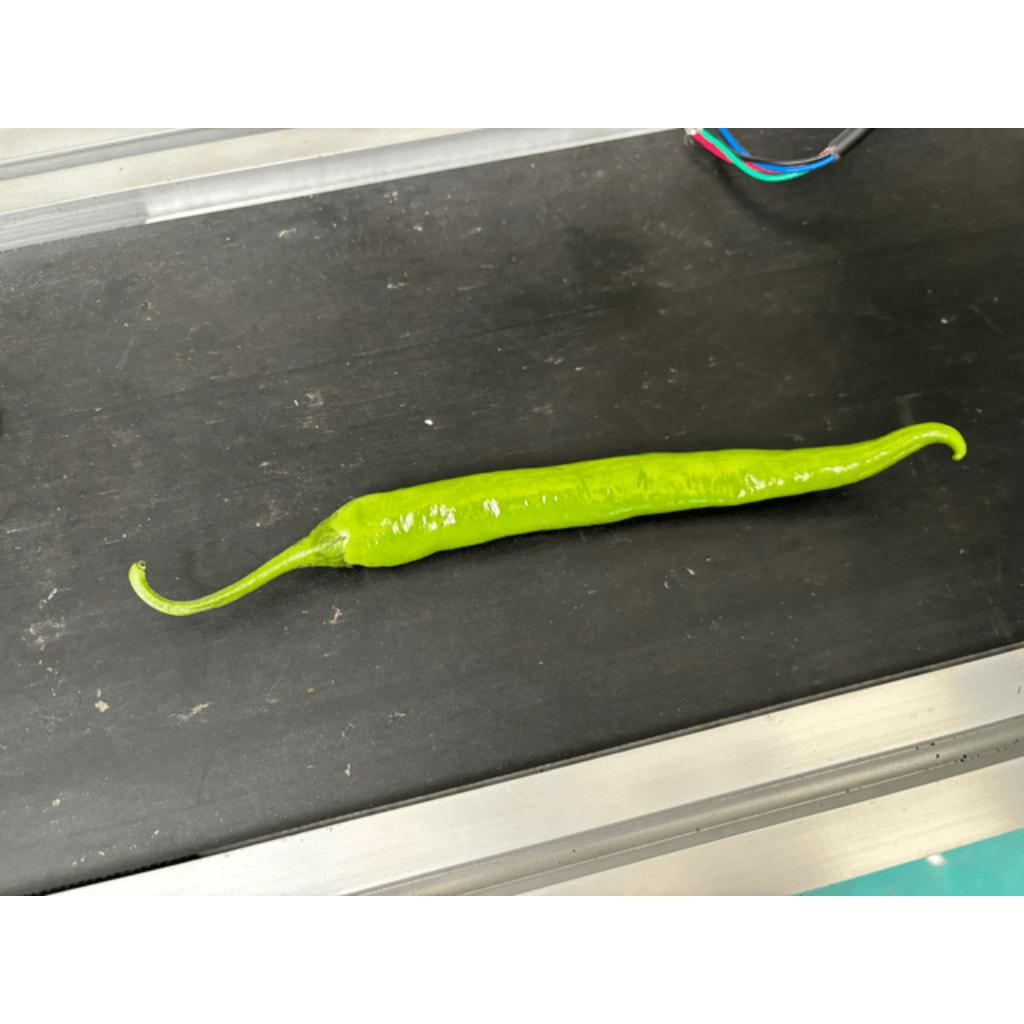chili: (304, 417, 971, 571)
